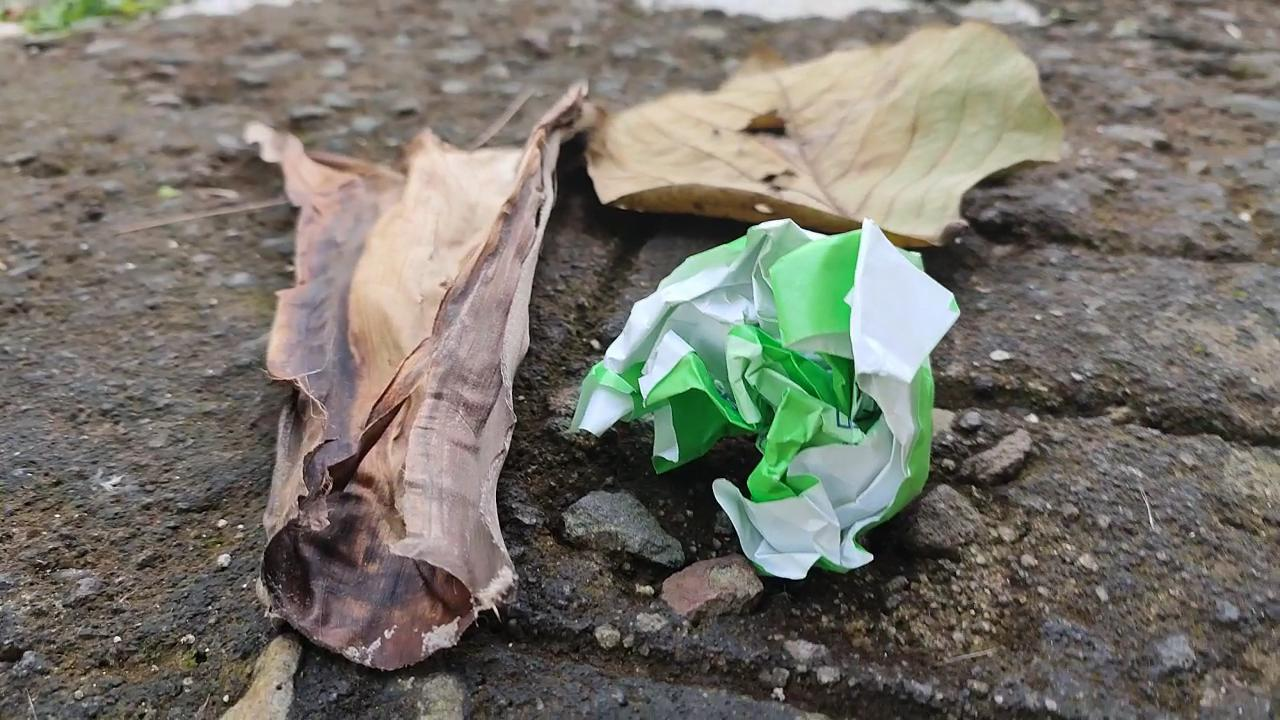Paper: (565, 207, 964, 601)
